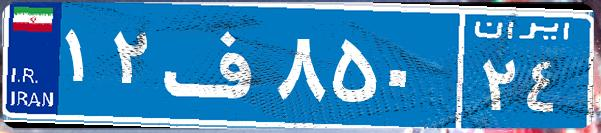0: (385, 28, 445, 110)
1: (57, 26, 110, 107)
2: (475, 38, 525, 113), (110, 28, 158, 105)
4: (525, 38, 570, 115)
5: (330, 28, 385, 110)
8: (273, 28, 330, 110)
ف: (158, 15, 273, 115)
